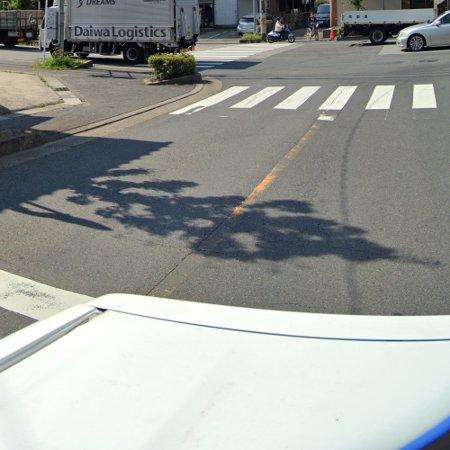crosswalks: (169, 82, 439, 116)
